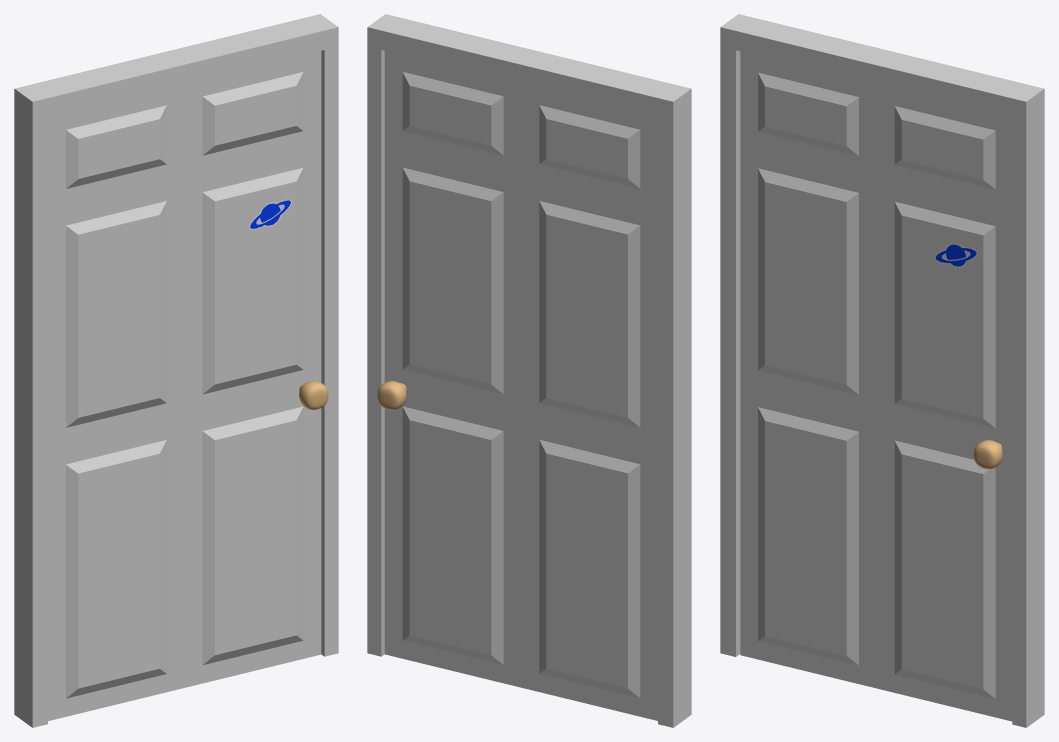
Rendered from door.fbx.
3 renders of one model, left to right at view 1: azimuth 30°, elevation 25°; view 2: azimuth 150°, elevation 25°; view 3: azimuth 330°, elevation 25°, orthographic.
Parts seen in each view (by area): view 1: door_1, frame; view 2: door_1, frame; view 3: door_1, frame.
Boxes of the visible parts, x1,y1,x2,y2 form: door_1: (48, 51, 328, 720); frame: (14, 14, 338, 727); door_1: (377, 51, 657, 720); frame: (367, 14, 691, 727); door_1: (740, 51, 1012, 721); frame: (720, 14, 1044, 727).
Size of the model in its own units: 2.07 by 4.06 by 0.4998.
Materials: 3 (1 with a texture image).
